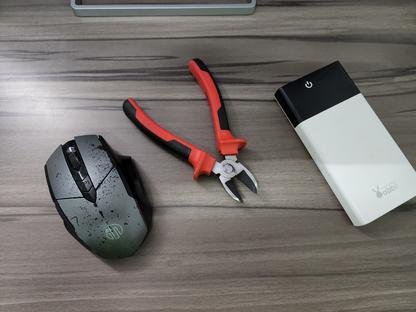mouse: (43, 133, 152, 260)
